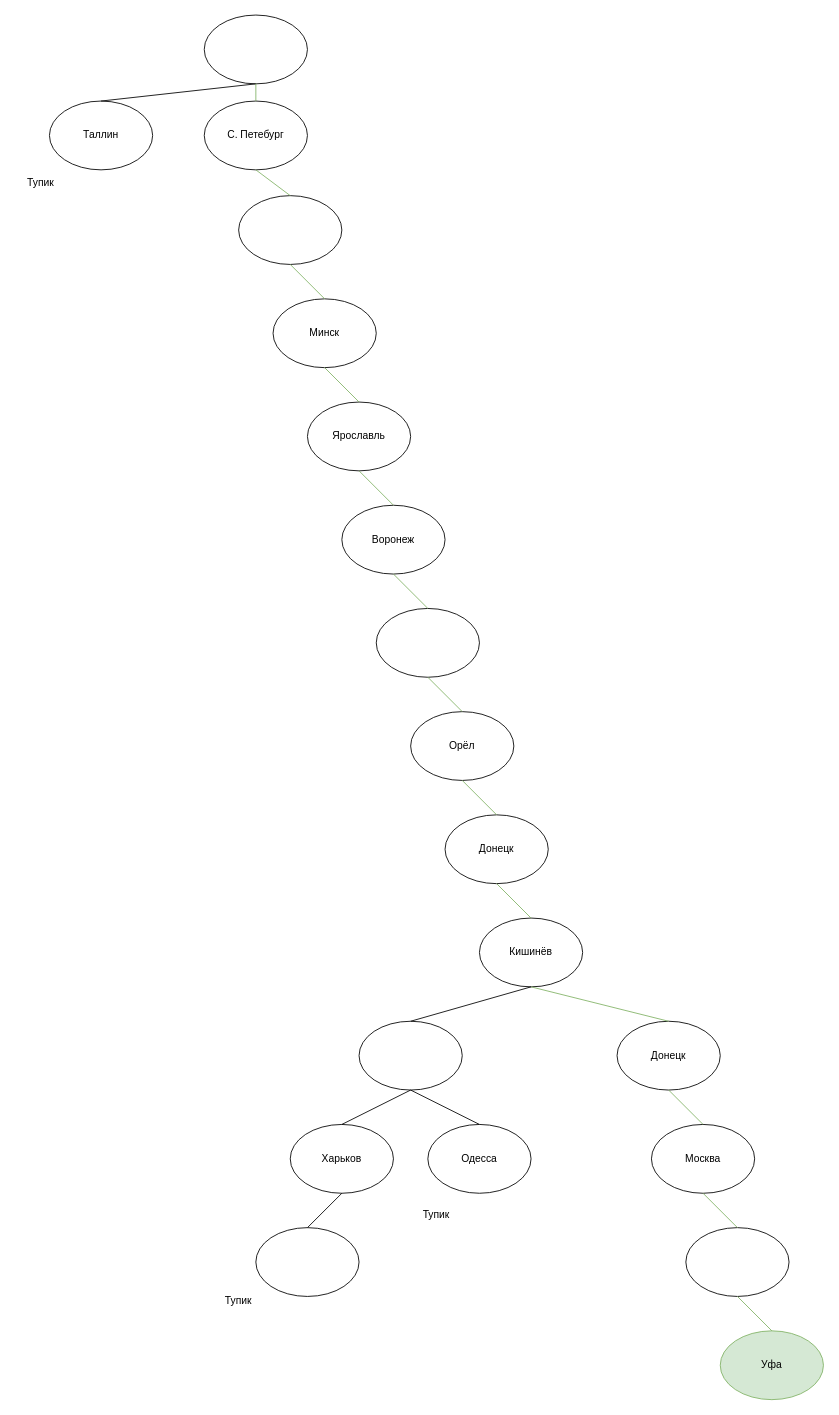
This 839x1415 diagram has some shape labels left out. The shapes that lost their labels are listed below. From the top down, each one's box as (x1, y1, x2, y2) in pixels, then its label:
(203, 14, 307, 84): Рига
(238, 195, 342, 264): Мурманск
(375, 608, 479, 677): Витебск
(358, 1020, 462, 1090): Киев
(255, 1227, 359, 1296): Симферополь
(685, 1227, 789, 1296): Казань
